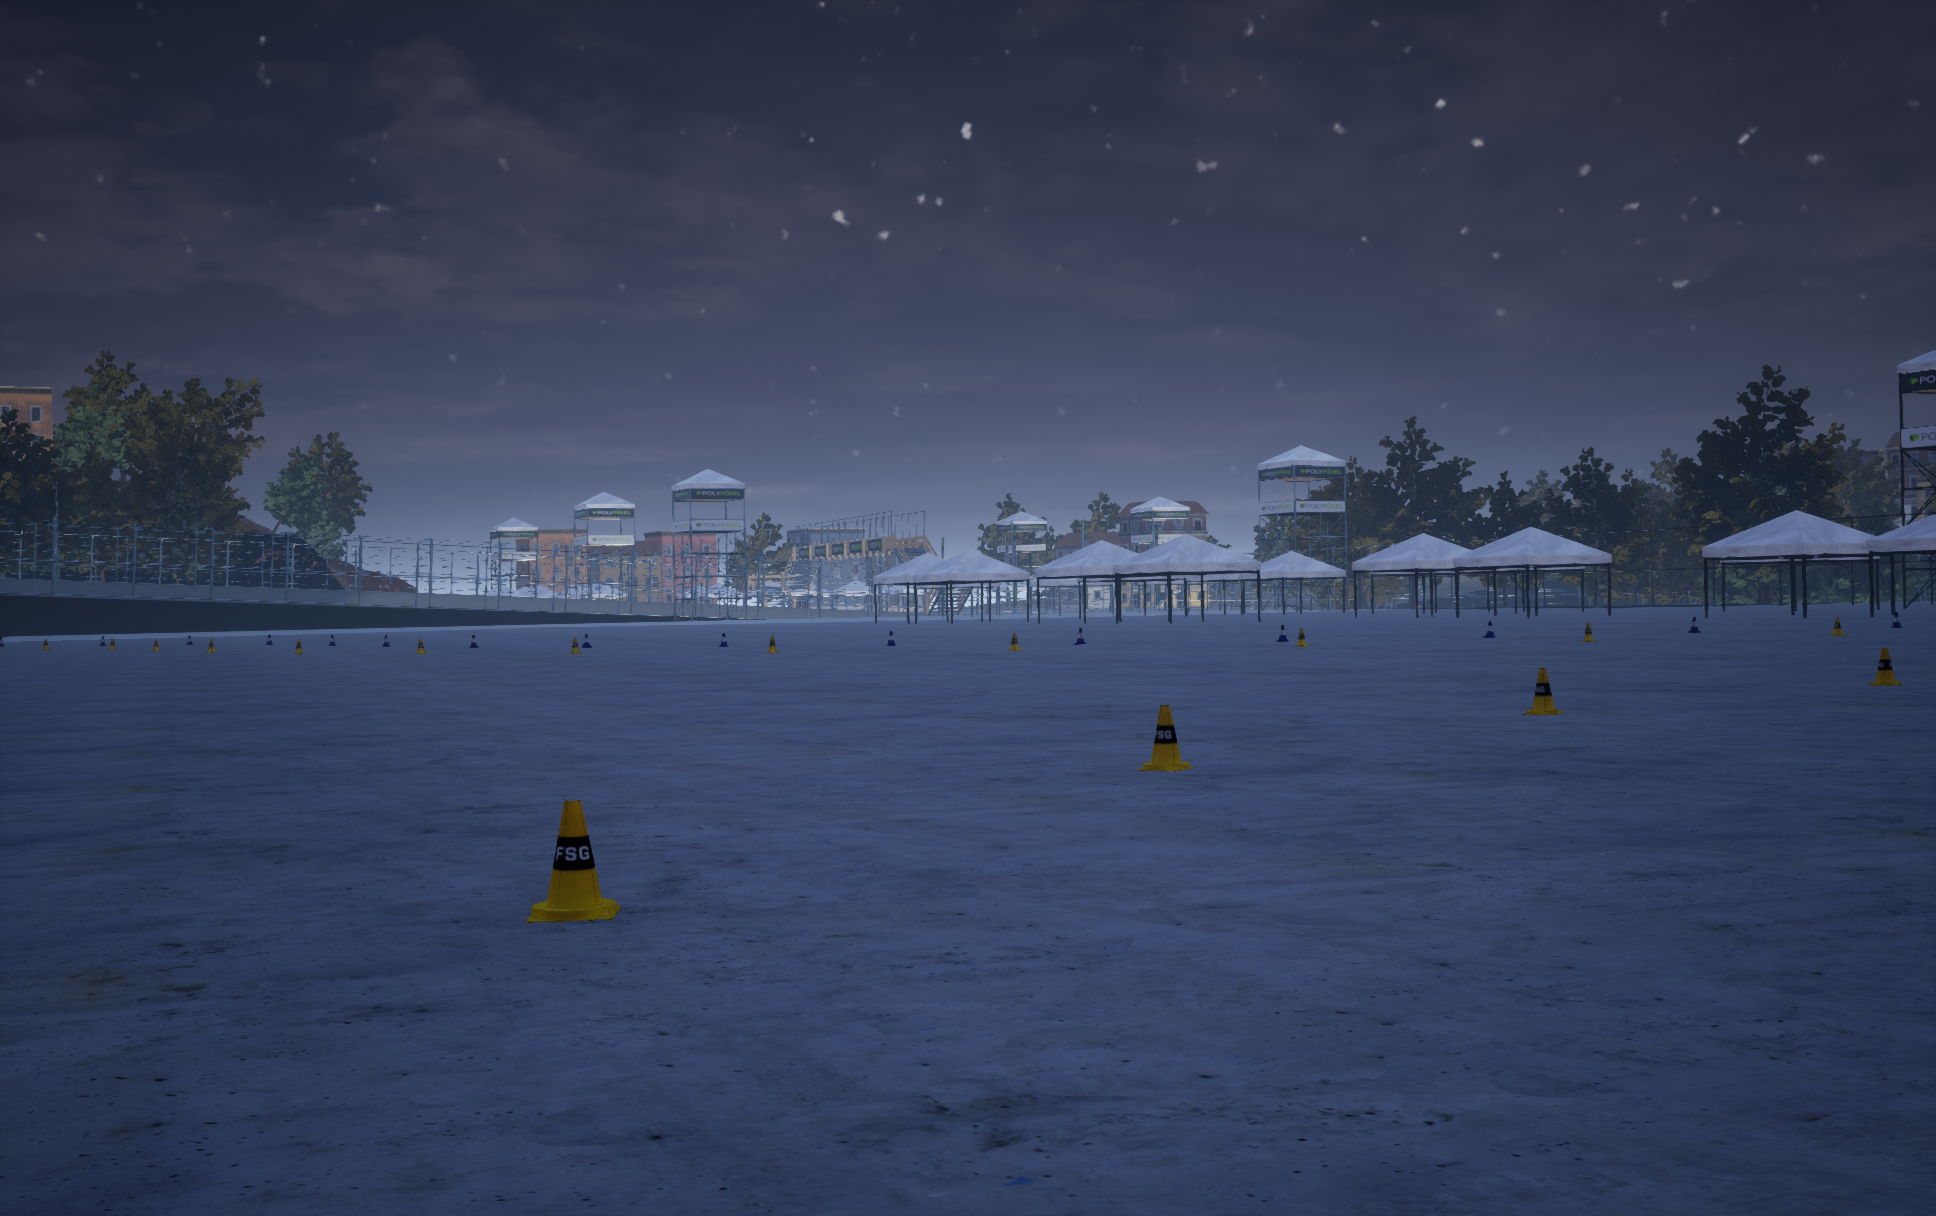blue: (524, 799, 621, 922), (1136, 705, 1196, 771), (1521, 668, 1563, 714), (1867, 649, 1901, 685), (1582, 623, 1597, 642), (1294, 628, 1308, 646), (1009, 633, 1021, 650)
